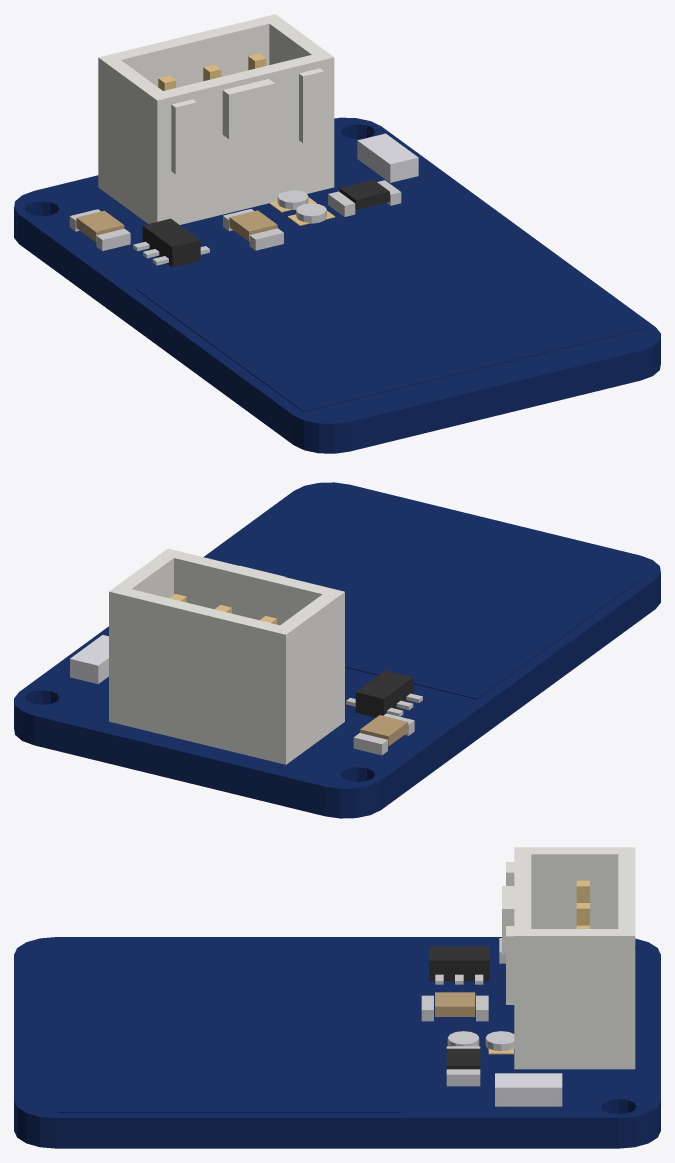
The model's file is touch.glb.
The picture shows the model from 3 angles, top to bottom: view 1: azimuth 30°, elevation 25°; view 2: azimuth 150°, elevation 25°; view 3: azimuth 270°, elevation 25°; orthographic projection. The views are drawn at different scales.
Visible parts, largest first — view 1: touch_pad, touch_pcb, touch_xh, touch_led, touch_ttp223, touch_r1, touch_c2, touch_c1, touch_c1_ends, touch_r1_ends, touch_c2_ends, touch; view 2: touch_pcb, touch_pad, touch_xh, touch_ttp223, touch_led, touch_c1, touch_c1_ends; view 3: touch_pad, touch_pcb, touch_xh, touch_led, touch_ttp223, touch_c2, touch_r1, touch_r1_ends, touch_c2_ends, touch, touch_j1_solder, touch_j2_solder.
Part boxes in pixels (x1=…): touch_pad: x1=136, y1=206, x2=644, y2=411; touch_pcb: x1=14, y1=117, x2=660, y2=453; touch_xh: x1=98, y1=14, x2=334, y2=224; touch_led: x1=357, y1=133, x2=418, y2=182; touch_ttp223: x1=142, y1=218, x2=200, y2=267; touch_r1: x1=339, y1=179, x2=389, y2=209; touch_c2: x1=229, y1=210, x2=277, y2=241; touch_c1: x1=76, y1=210, x2=124, y2=241; touch_c1_ends: x1=69, y1=209, x2=130, y2=250; touch_r1_ends: x1=328, y1=180, x2=401, y2=216; touch_c2_ends: x1=223, y1=209, x2=283, y2=250; touch: x1=158, y1=53, x2=266, y2=90; touch_pcb: x1=14, y1=482, x2=660, y2=818; touch_pad: x1=213, y1=493, x2=643, y2=699; touch_xh: x1=109, y1=548, x2=344, y2=764; touch_ttp223: x1=355, y1=670, x2=413, y2=717; touch_led: x1=70, y1=635, x2=108, y2=683; touch_c1: x1=360, y1=715, x2=408, y2=746; touch_c1_ends: x1=353, y1=713, x2=414, y2=755; touch_pad: x1=58, y1=941, x2=400, y2=1112; touch_pcb: x1=14, y1=937, x2=660, y2=1148; touch_xh: x1=502, y1=847, x2=635, y2=1069; touch_led: x1=495, y1=1073, x2=562, y2=1106; touch_ttp223: x1=429, y1=946, x2=489, y2=981; touch_c2: x1=435, y1=992, x2=475, y2=1016; touch_r1: x1=446, y1=1048, x2=480, y2=1069; touch_r1_ends: x1=446, y1=1046, x2=480, y2=1086; touch_c2_ends: x1=421, y1=995, x2=488, y2=1021; touch: x1=576, y1=880, x2=589, y2=928; touch_j1_solder: x1=485, y1=1031, x2=514, y2=1051; touch_j2_solder: x1=447, y1=1031, x2=479, y2=1046.
Bounding box in the file's own units: 0.0204 × 0.0086 × 0.0308.
